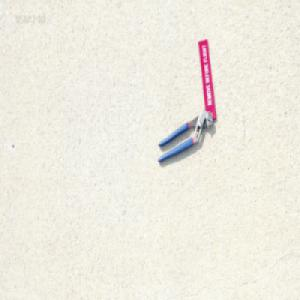Label: (197, 37, 216, 119)
Pliers: (156, 109, 212, 163)
